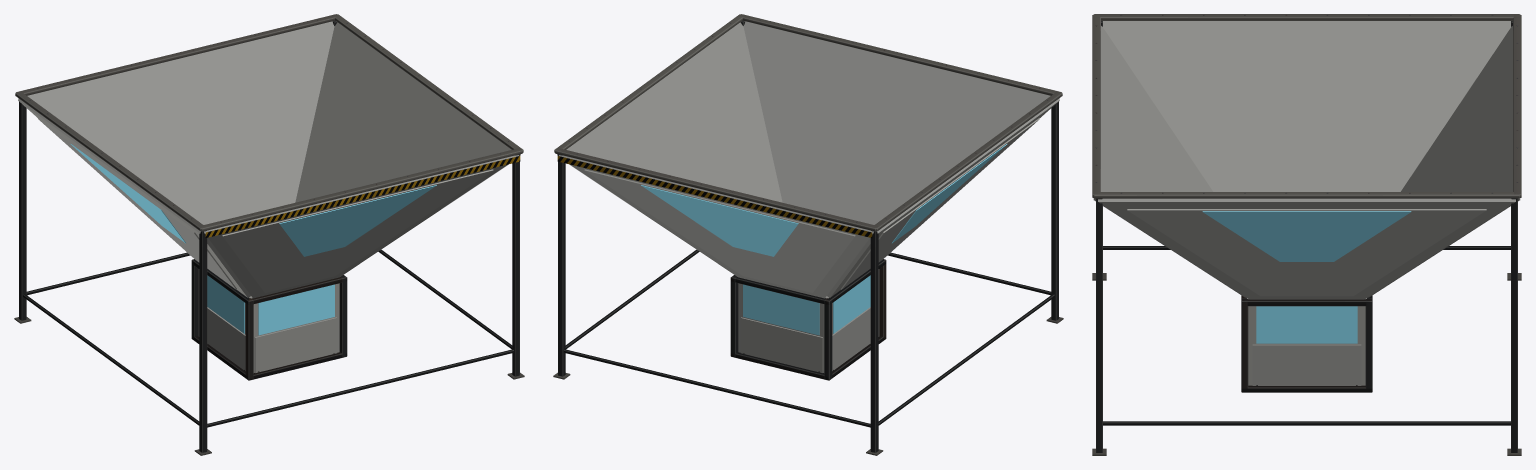
Rendered from chute_adv_hopper_3x3.glb.
3 views of the same model, side by side, from view 1: azimuth 30°, elevation 25°; view 2: azimuth 150°, elevation 25°; view 3: azimuth 270°, elevation 25° (orthographic). The views are drawn at different scales.
Visible parts, largest first — view 1: Frame; view 2: Frame; view 3: Frame.
Part boxes in pixels (x1,y1,x2,y2): Frame: (14, 14, 524, 455); Frame: (553, 14, 1063, 455); Frame: (1092, 14, 1521, 455).
Size of the model in its own units: 5.94 by 3.99 by 5.95.
